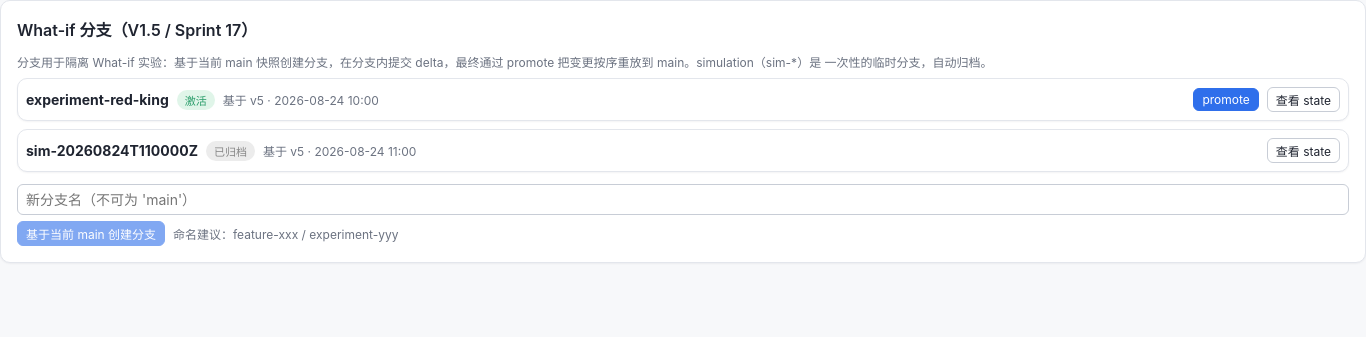
Test case: BranchesPanel (V1.5 / Sprint 17) › promote 409 (branch_closed) shows error banner
The image size is (1366, 337).
Click the button with test id "branches-promote-br_exp1" at (1226, 100), box [1193,88,1259,111]
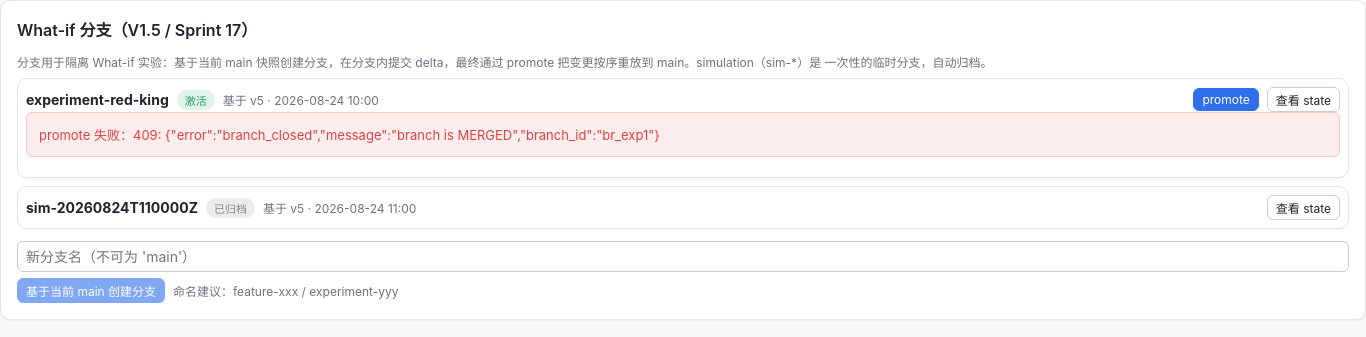
Expected: the text with test id "branches-promote-error-br_exp1" is shown, [39,127,660,143]
Expected: the text with test id "branches-promote-error-br_exp1" shows "branch_closed", [133,127,660,143]
